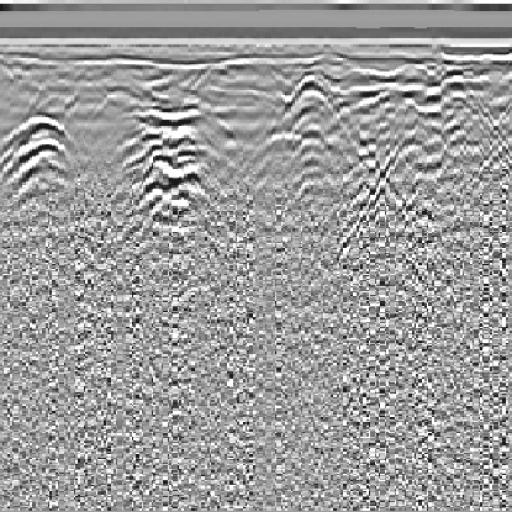metalic: (109, 74, 241, 274), (2, 87, 102, 215)
